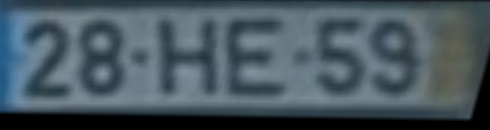2: (19, 19, 77, 104)
5: (314, 19, 371, 101)
8: (77, 17, 131, 104)
9: (369, 18, 423, 101)
E: (224, 18, 290, 101)
H: (156, 18, 222, 102)
